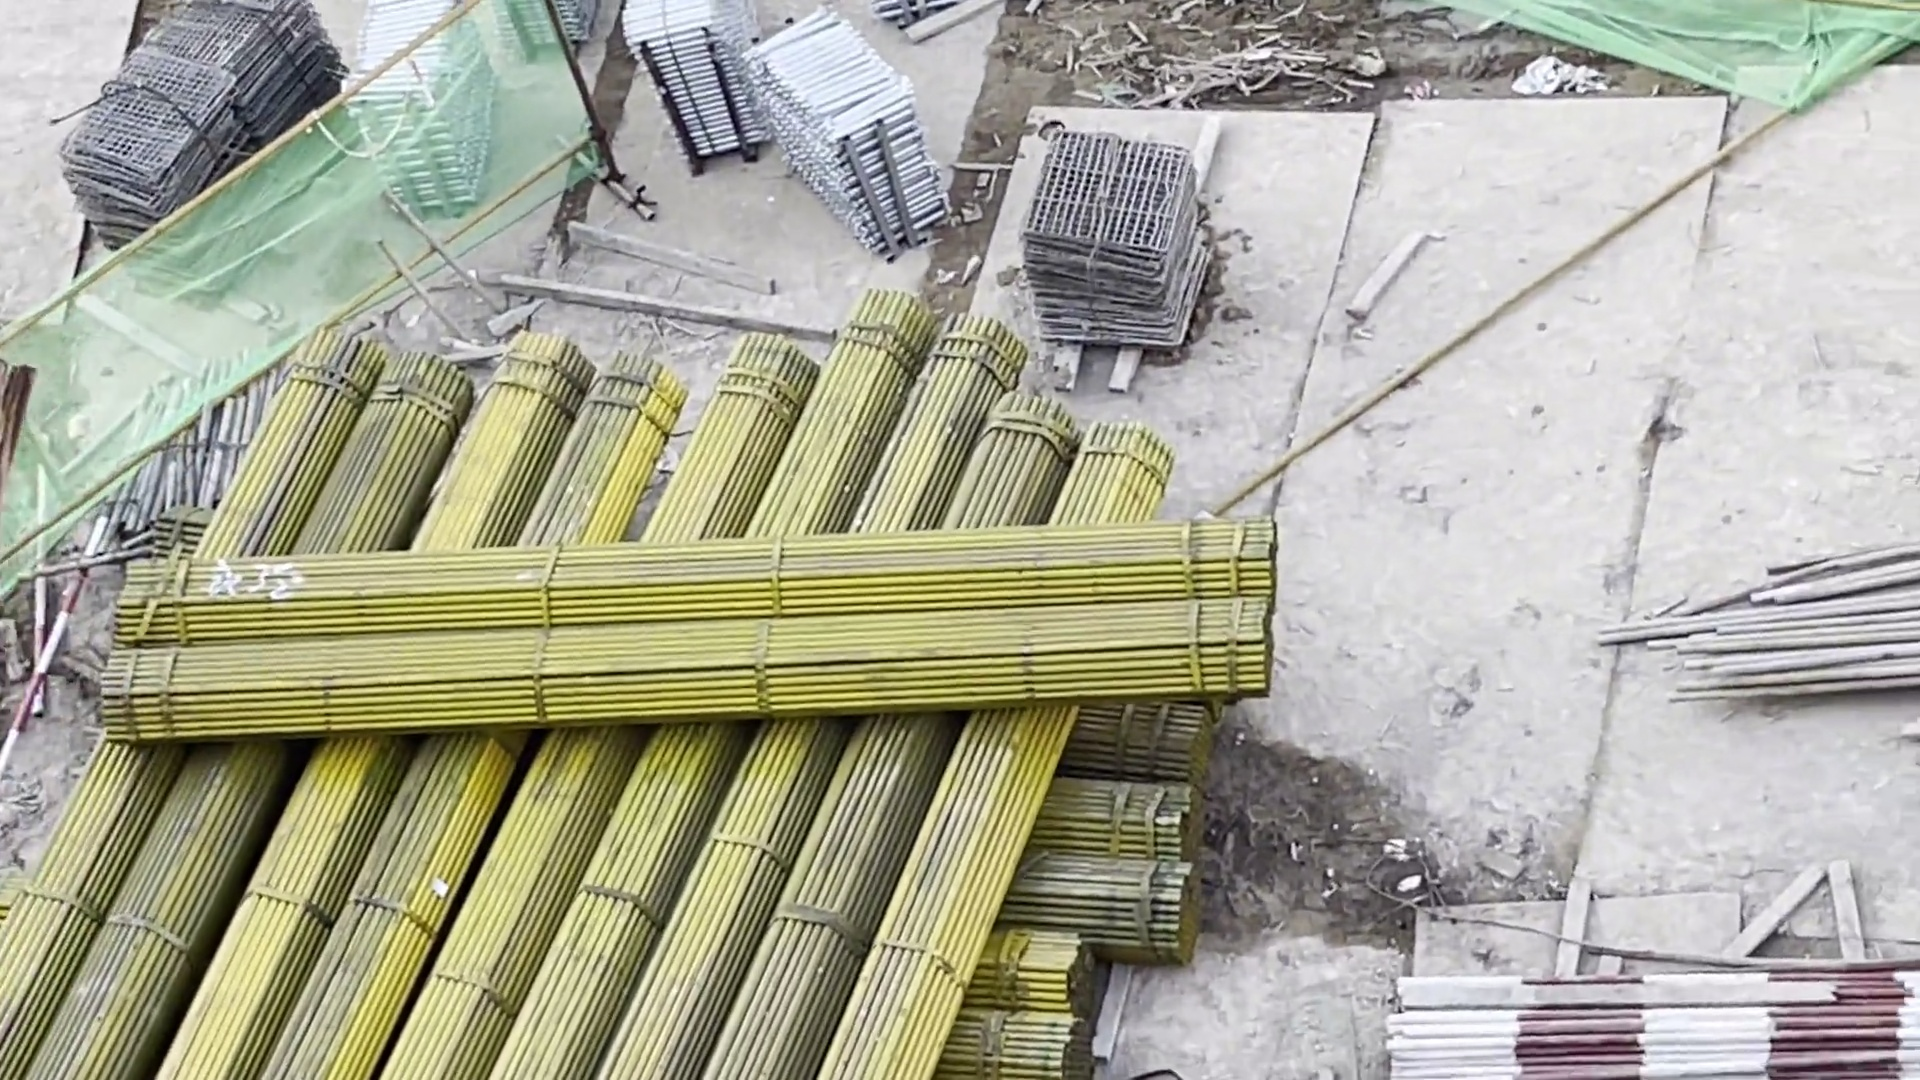scaffold: (737, 1, 959, 265), (347, 1, 541, 179), (633, 1, 767, 175)
